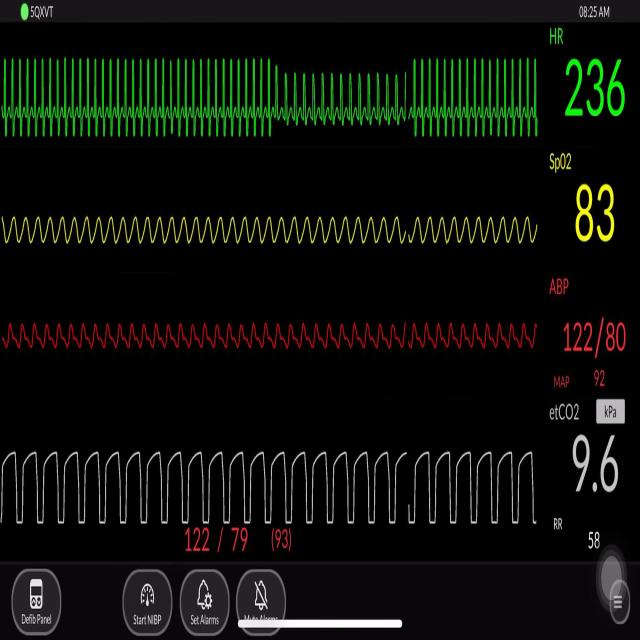danger: (6, 51, 274, 144), (408, 47, 545, 149), (281, 68, 409, 130)
